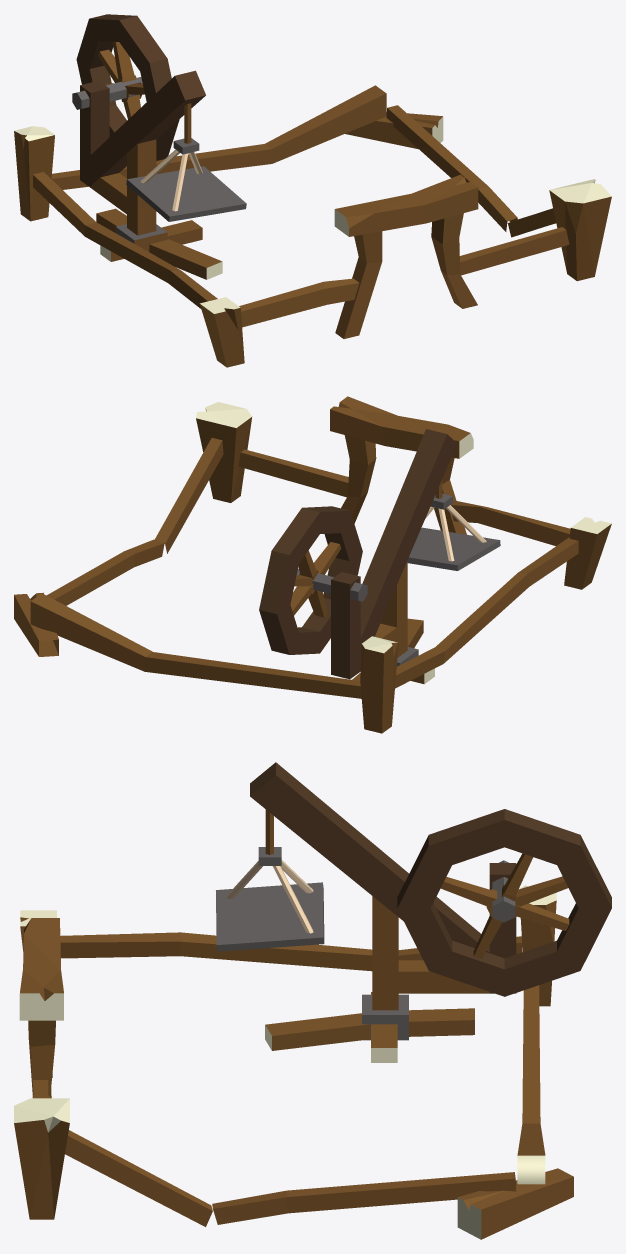
The model's file is Stone_storage_1.fbx.
3 renders of one model, top to bottom at view 1: azimuth 30°, elevation 25°; view 2: azimuth 150°, elevation 25°; view 3: azimuth 270°, elevation 25°, orthographic. The views are drawn at different scales.
Parts seen in each view (by area): view 1: Cube.010; view 2: Cube.010; view 3: Cube.010.
Boxes of the visible parts, x1,y1,x2,y2 form: Cube.010: [14, 14, 611, 367]; Cube.010: [14, 396, 611, 733]; Cube.010: [14, 762, 611, 1239].
Size of the model in its own units: 6 by 6 by 3.
